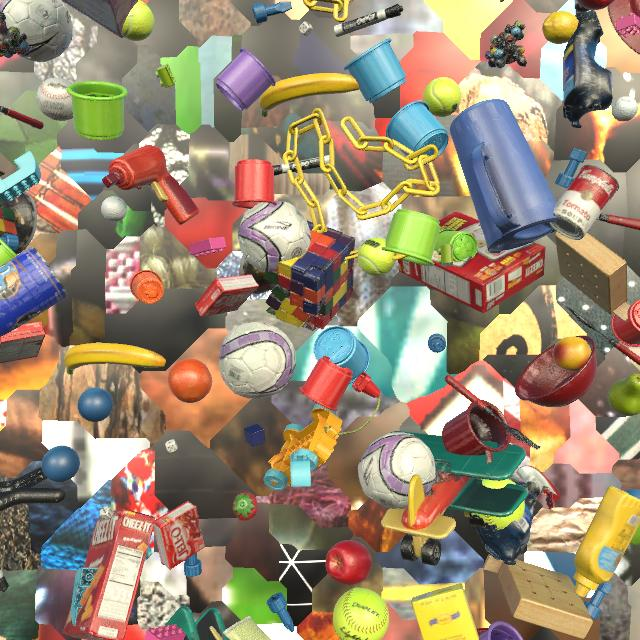ycb_002_master_chef_can: (0, 246, 68, 337)
ycb_003_cracker_box: (398, 211, 545, 313), (62, 509, 156, 640), (61, 0, 138, 38)
ycb_004_sugar_box: (412, 583, 479, 640)
ycb_005_tomato_soup_can: (549, 165, 619, 240)
ycb_006_mustard_bottle: (573, 486, 640, 598)
ycb_009_gelatin_box: (152, 501, 205, 570), (195, 274, 259, 317), (0, 321, 46, 363)
ycb_011_banana: (259, 73, 360, 117), (64, 343, 166, 375)
ycb_012_strawberry: (233, 492, 258, 521)
ycb_013_apple: (325, 540, 372, 585), (576, 0, 615, 10)
ycb_014_lemon: (542, 11, 579, 44)
ycb_015_peach: (553, 337, 591, 371)
ycb_016_pear: (608, 373, 640, 416)
ycb_017_orange: (168, 358, 212, 403)
